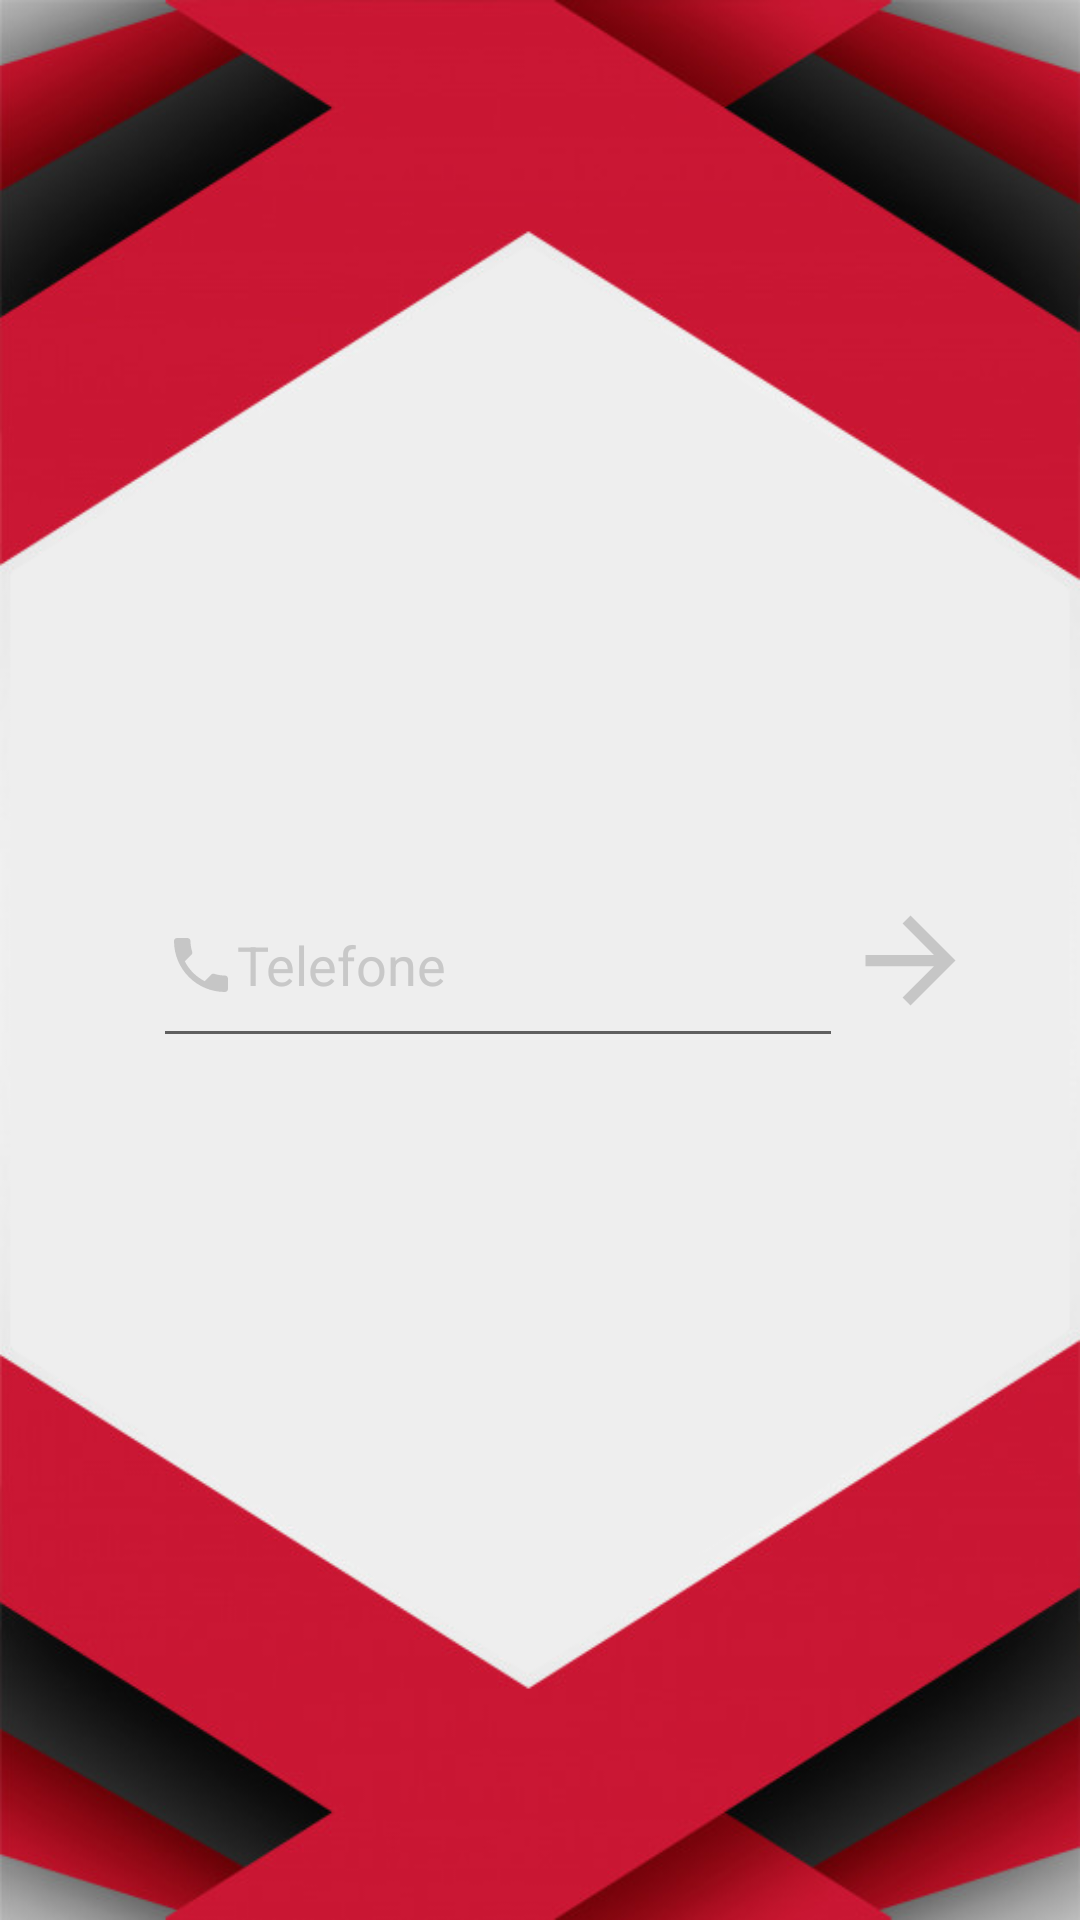

Icon click points for this 1080×1920 phone screenshot, format [x,y]:
arrow forward: [910,960]
